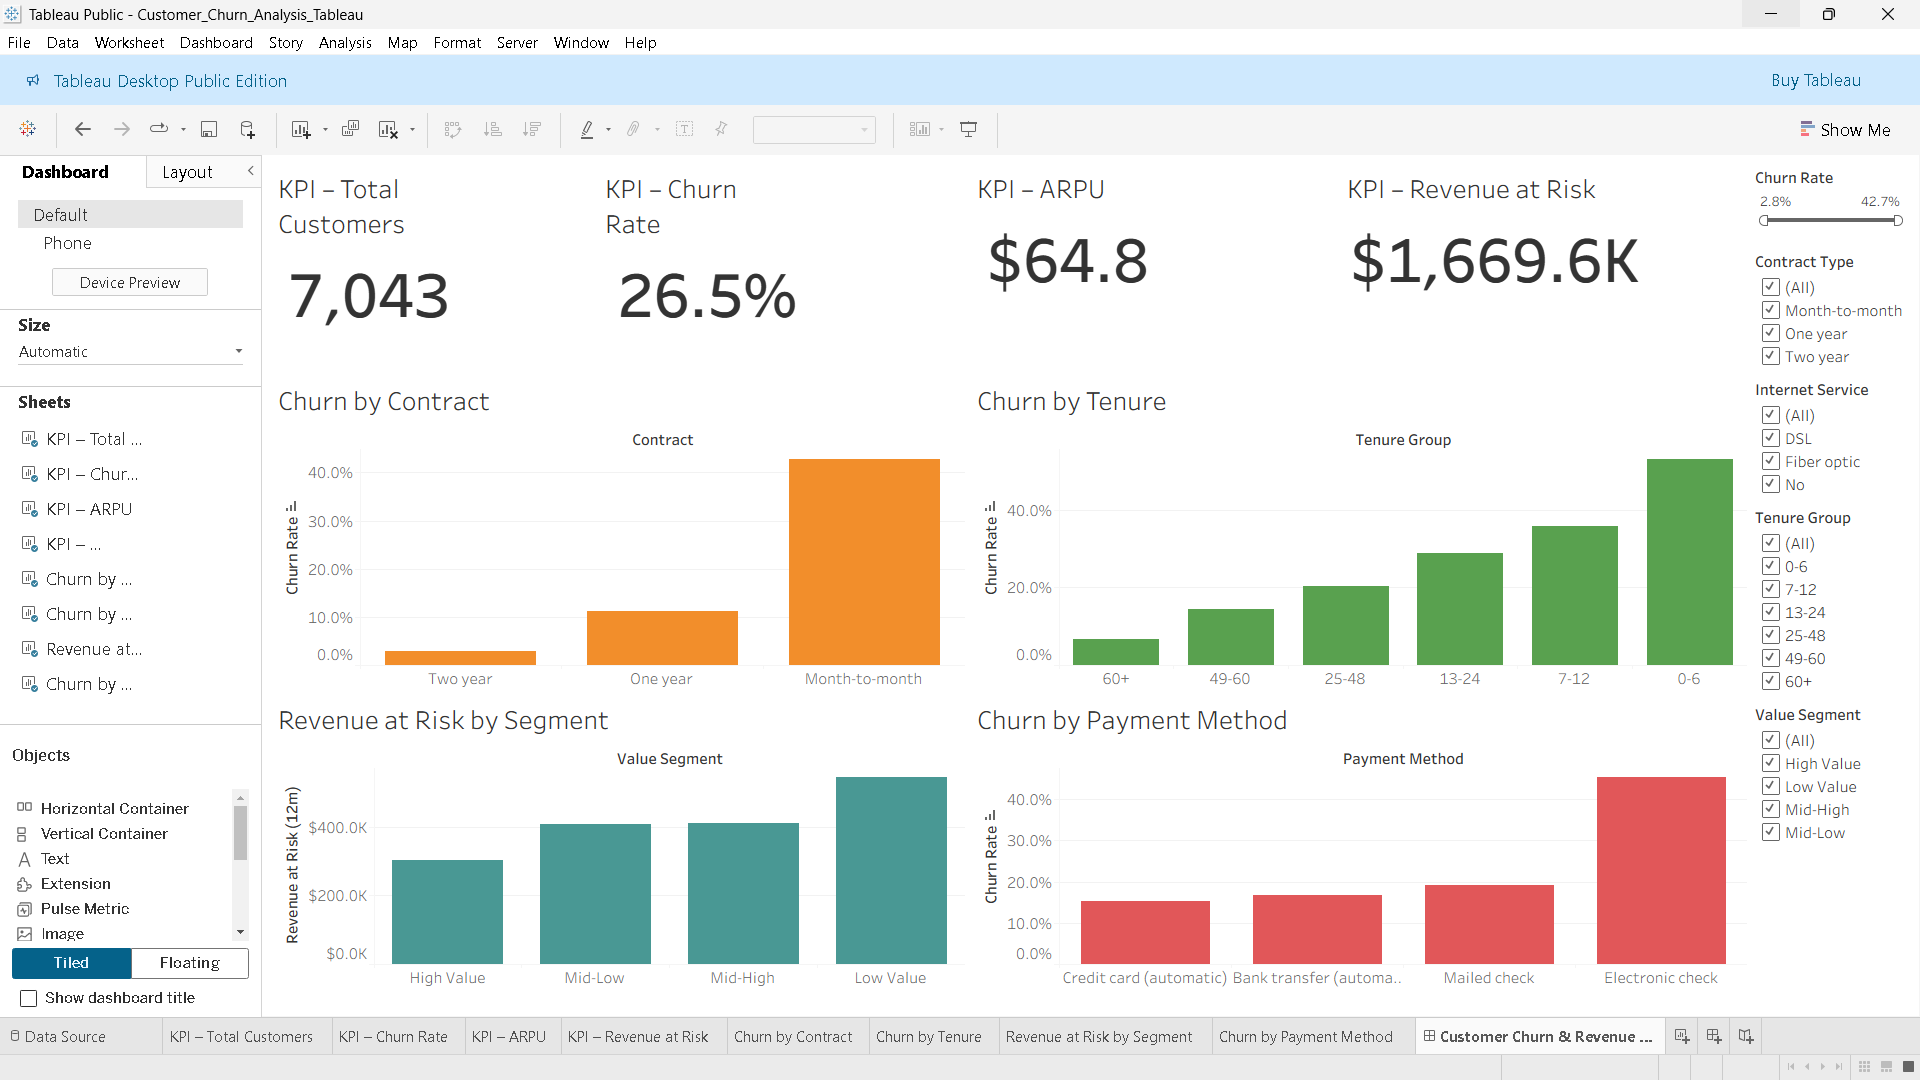

The dashboard page shown, as its layout file describes it:
{"tool":"tableau","page":{"name":"Customer Churn & Revenue Dashboard","canvas":[1000,1000],"units":"permille","ordinal":0},"visuals":[{"type":"worksheet","title":"KPI – Total Customers","mark":"Text","box":[4.8,9.3,197.2,246.2]},{"type":"worksheet","title":"KPI – Churn Rate","mark":"Text","box":[202,9.3,224.9,246.2]},{"type":"worksheet","title":"KPI – ARPU","mark":"Text","box":[426.9,9.3,223.3,246.2]},{"type":"worksheet","title":"KPI – Revenue at Risk","mark":"Text","box":[650.2,9.3,248.4,246.2]},{"type":"filter","title":"Churn by Contract","param":"[federated.1oinhvk0napn3a1amok3415zhit0].[usr:Calculation_0451108101808128:qk]","box":[898.6,9.3,96.6,97.6]},{"type":"filter","title":"Churn by Contract","param":"[federated.1oinhvk0napn3a1amok3415zhit0].[none:Contract:nk]","box":[898.6,106.9,96.6,148.7]},{"type":"worksheet","title":"Churn by Contract","mark":"Bar","rows":["Calculation_0451108101808128"],"cols":["Contract"],"box":[4.8,255.5,422.1,370.5]},{"type":"worksheet","title":"Churn by Tenure","mark":"Bar","rows":["Calculation_0451108101808128"],"cols":["tenure_group"],"box":[426.9,255.5,471.7,370.5]},{"type":"filter","title":"Churn by Contract","param":"[federated.1oinhvk0napn3a1amok3415zhit0].[none:InternetService:nk]","box":[898.6,255.5,96.6,148.7]},{"type":"filter","title":"Churn by Contract","param":"[federated.1oinhvk0napn3a1amok3415zhit0].[none:tenure_group:nk]","box":[898.6,404.2,96.6,228.8]},{"type":"worksheet","title":"Revenue at Risk by Segment","mark":"Bar","rows":["Calculation_0451108102524930"],"cols":["value_segment"],"box":[4.8,626,422.1,364.7]},{"type":"worksheet","title":"Churn by Payment Method","mark":"Automatic","rows":["Calculation_0451108101808128"],"cols":["PaymentMethod"],"box":[426.9,626,471.7,364.7]},{"type":"filter","title":"Churn by Contract","param":"[federated.1oinhvk0napn3a1amok3415zhit0].[none:value_segment:nk]","box":[898.6,633,96.6,175.4]}]}

Visuals, with their boxes on the dashboard's canvas, which has no fixed pixel size, in thousandths of its width and height (x1, y1, x2, y2). These are canvas units, not pixel positions in the 1920x1080 screenshot, which may show the page scaled, cropped or inside an application window:
"KPI – Total Customers" worksheet (Text marks): [x1=5, y1=9, x2=202, y2=256]
"KPI – Churn Rate" worksheet (Text marks): [x1=202, y1=9, x2=427, y2=256]
"KPI – ARPU" worksheet (Text marks): [x1=427, y1=9, x2=650, y2=256]
"KPI – Revenue at Risk" worksheet (Text marks): [x1=650, y1=9, x2=899, y2=256]
"Churn by Contract" filter: [x1=899, y1=9, x2=995, y2=107]
"Churn by Contract" filter: [x1=899, y1=107, x2=995, y2=256]
"Churn by Contract" worksheet (Bar marks): [x1=5, y1=256, x2=427, y2=626]
"Churn by Tenure" worksheet (Bar marks): [x1=427, y1=256, x2=899, y2=626]
"Churn by Contract" filter: [x1=899, y1=256, x2=995, y2=404]
"Churn by Contract" filter: [x1=899, y1=404, x2=995, y2=633]
"Revenue at Risk by Segment" worksheet (Bar marks): [x1=5, y1=626, x2=427, y2=991]
"Churn by Payment Method" worksheet: [x1=427, y1=626, x2=899, y2=991]
"Churn by Contract" filter: [x1=899, y1=633, x2=995, y2=808]
